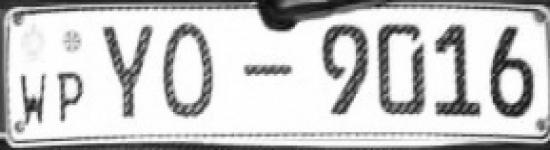-: (239, 61, 293, 83)
0: (371, 18, 430, 123)
1: (430, 18, 483, 124)
6: (485, 17, 537, 125)
9: (321, 19, 372, 120)
O: (158, 19, 221, 122)
P: (52, 67, 87, 126)
W: (17, 70, 50, 123)
Y: (96, 20, 158, 122)
